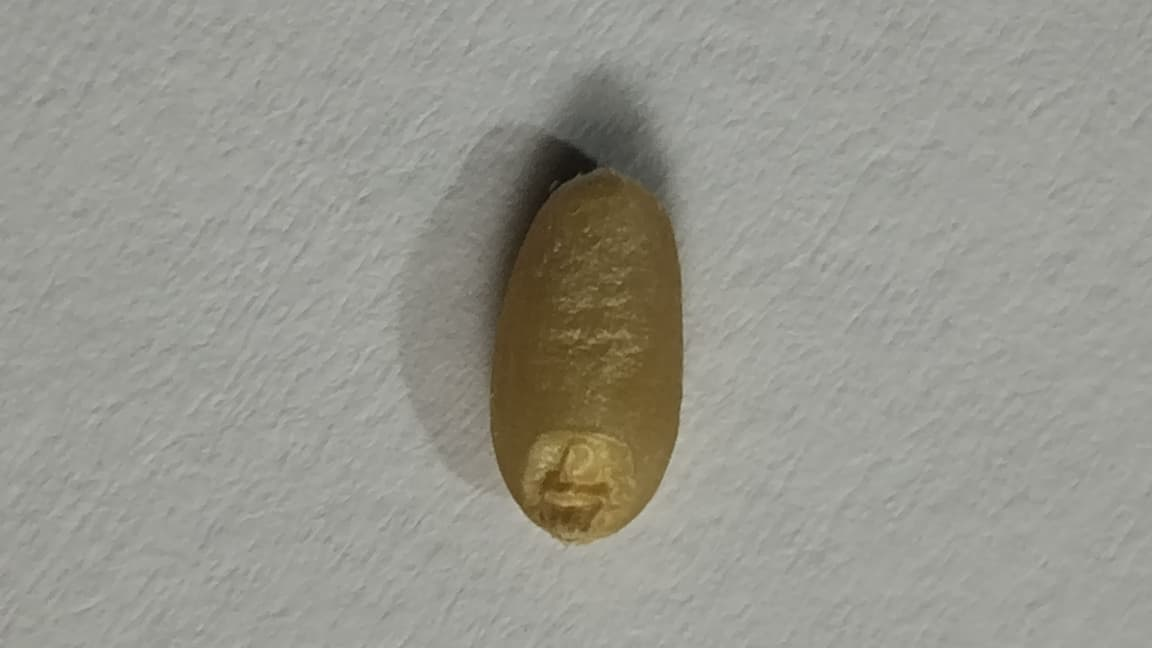healthy: (491, 169, 681, 541)
